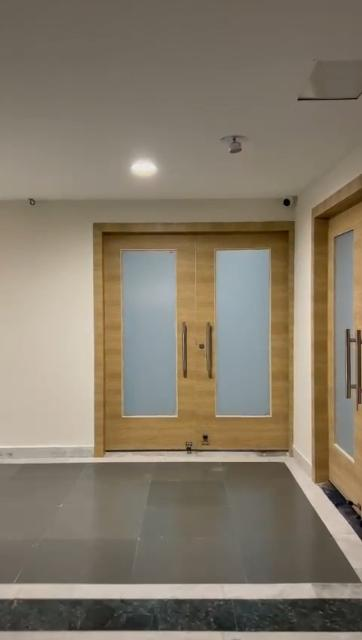door: (94, 230, 292, 448), (314, 208, 362, 492)
floor: (0, 467, 322, 633)
wall: (0, 207, 98, 448)
